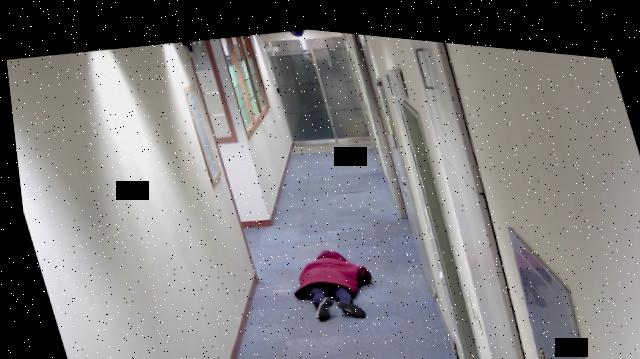fall: (274, 232, 380, 324)
